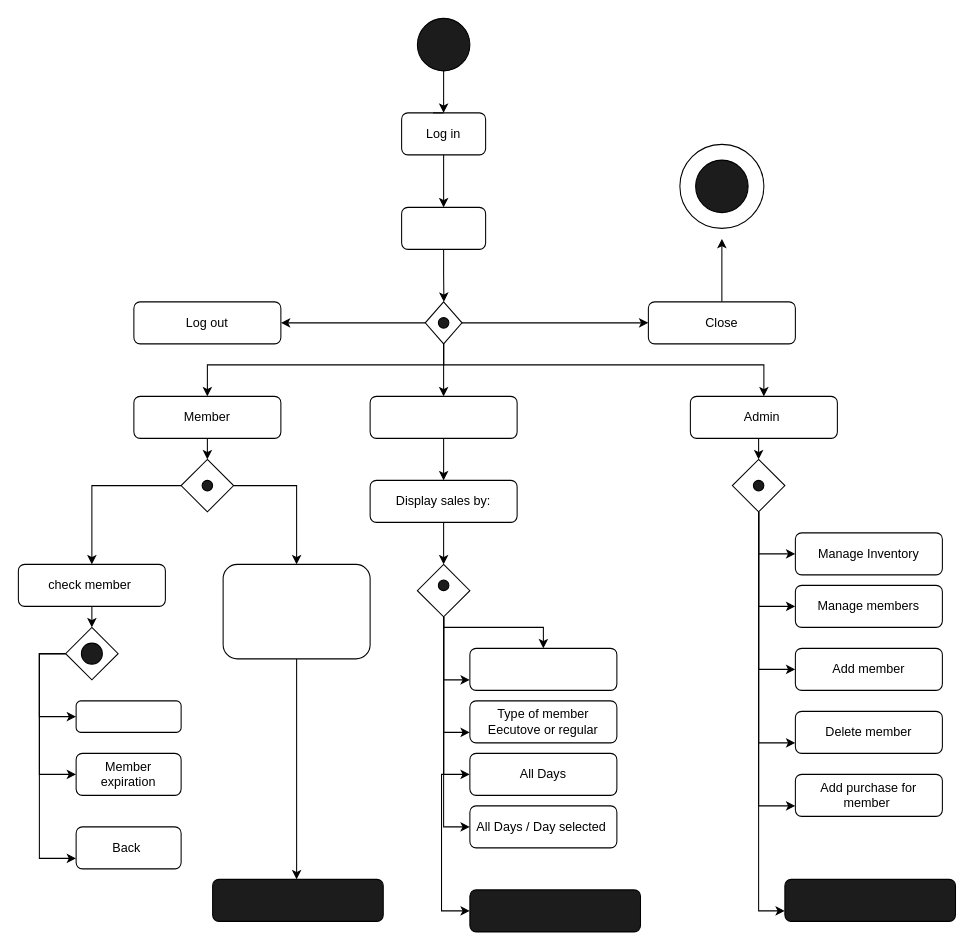
The diagram is 974 pixels wide and 950 high, and some of its shapes have lost their labels. Here are the shapes that lost their labels. From the top down, the centre of each, then its label:
At point (443, 227): "Open Bulk Club program".
At point (443, 416): "Sales".
At point (296, 611): "Display all members and gran total".
At point (543, 668): "Search by item".
At point (128, 716): "Rebate".
